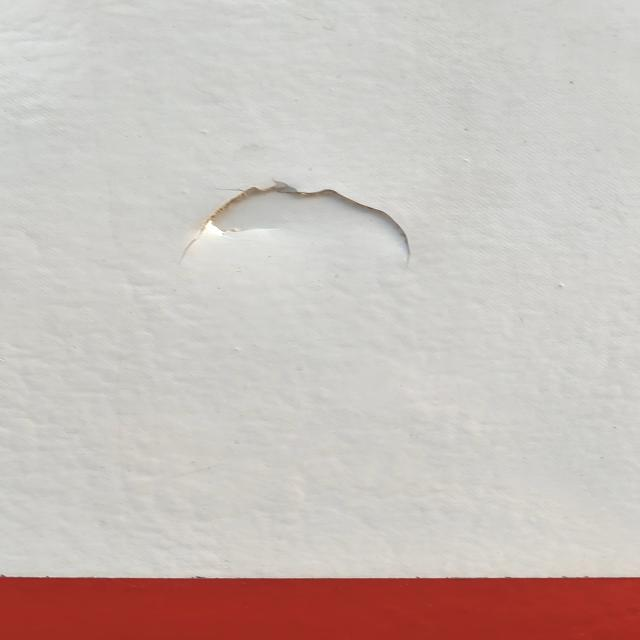Scratches: (169, 166, 444, 266)
